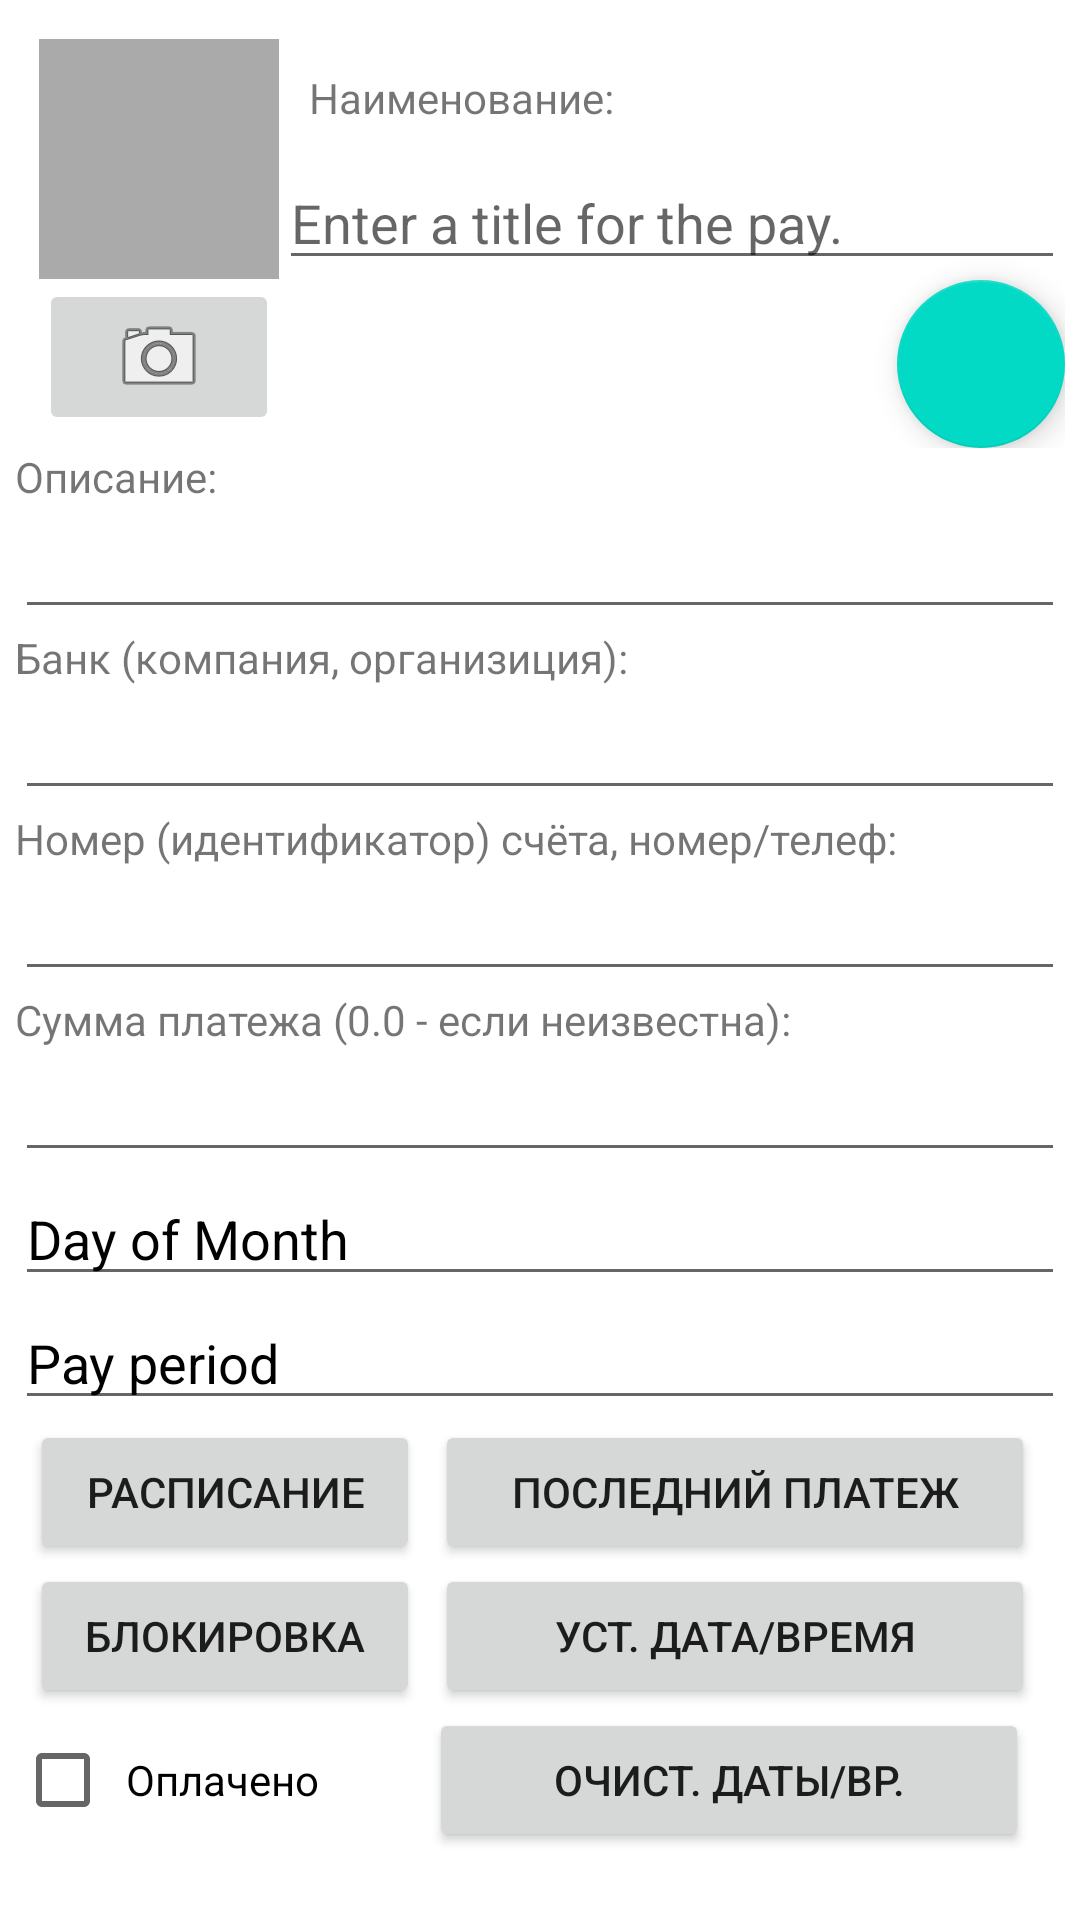

Named icons in this screenshot (1080w x 1920h) and their bounding boxes, (left=x1, top=y1, right=x2, bottom=y2):
camera: (left=51, top=297, right=267, bottom=417)
